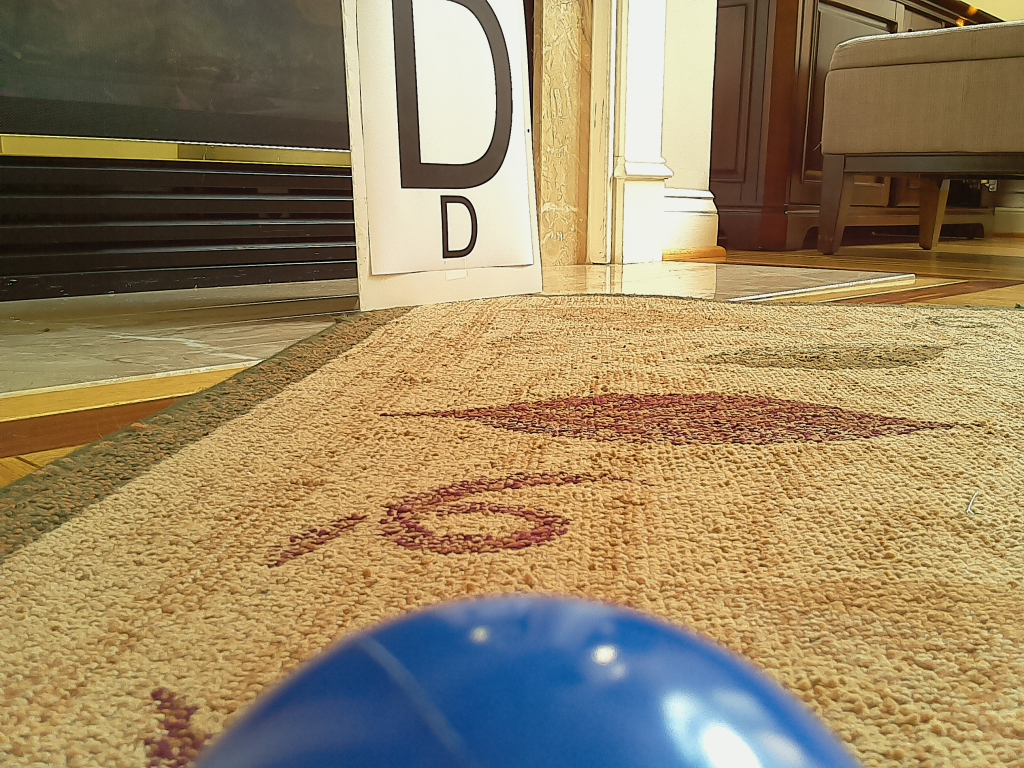letter: (400, 1, 514, 189)
